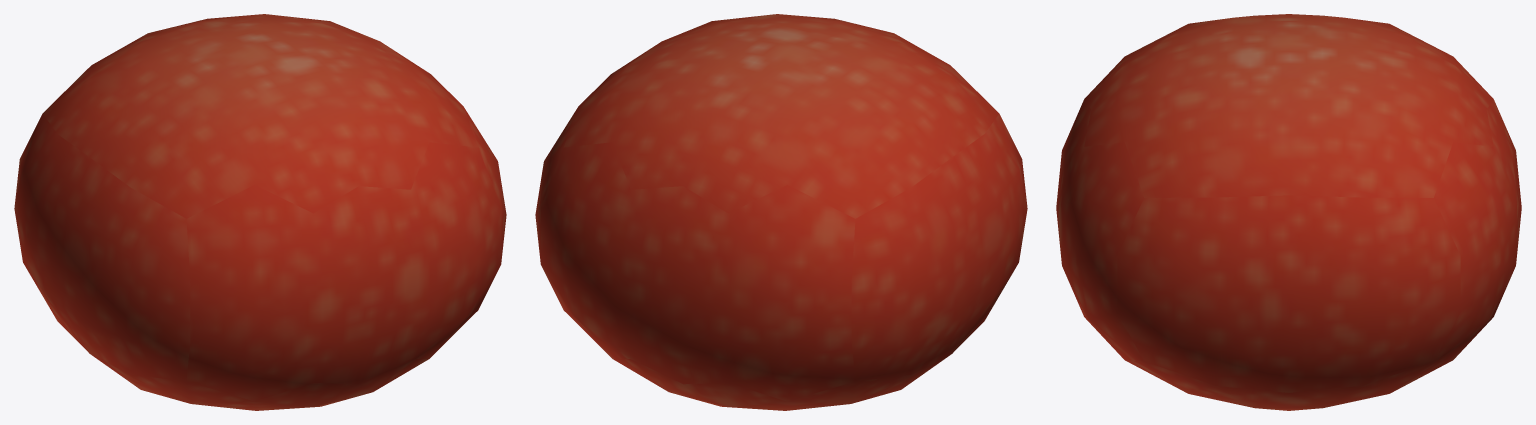
Rendered from GummyCandy.glb.
The picture shows the model from 3 angles, left to right: view 1: azimuth 30°, elevation 25°; view 2: azimuth 150°, elevation 25°; view 3: azimuth 270°, elevation 25°; orthographic projection.
Parts seen in each view (by area): view 1: geometry_0; view 2: geometry_0; view 3: geometry_0.
Part boxes in pixels (left/top/right/bottom): geometry_0: left=14, top=14, right=506, bottom=410; geometry_0: left=535, top=14, right=1027, bottom=410; geometry_0: left=1056, top=14, right=1521, bottom=410.
Size of the model in its own units: 1.01 by 0.7812 by 1.01.
Materials: 1 (1 with a texture image).
